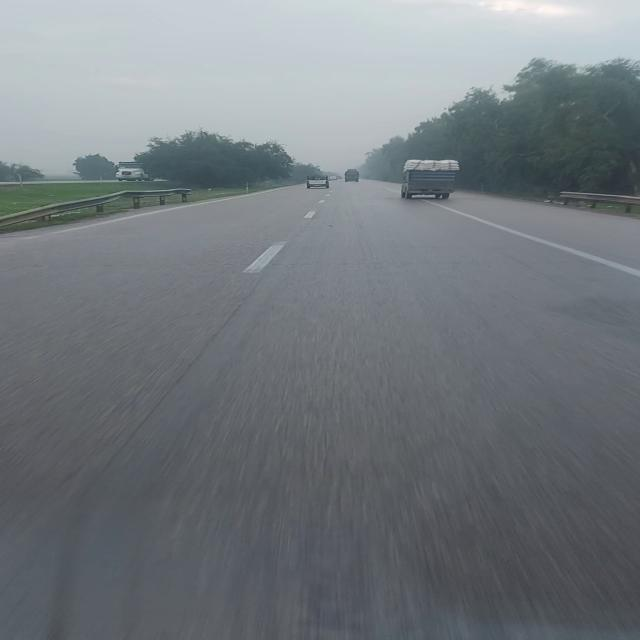Pickup: (400, 159, 460, 200)
